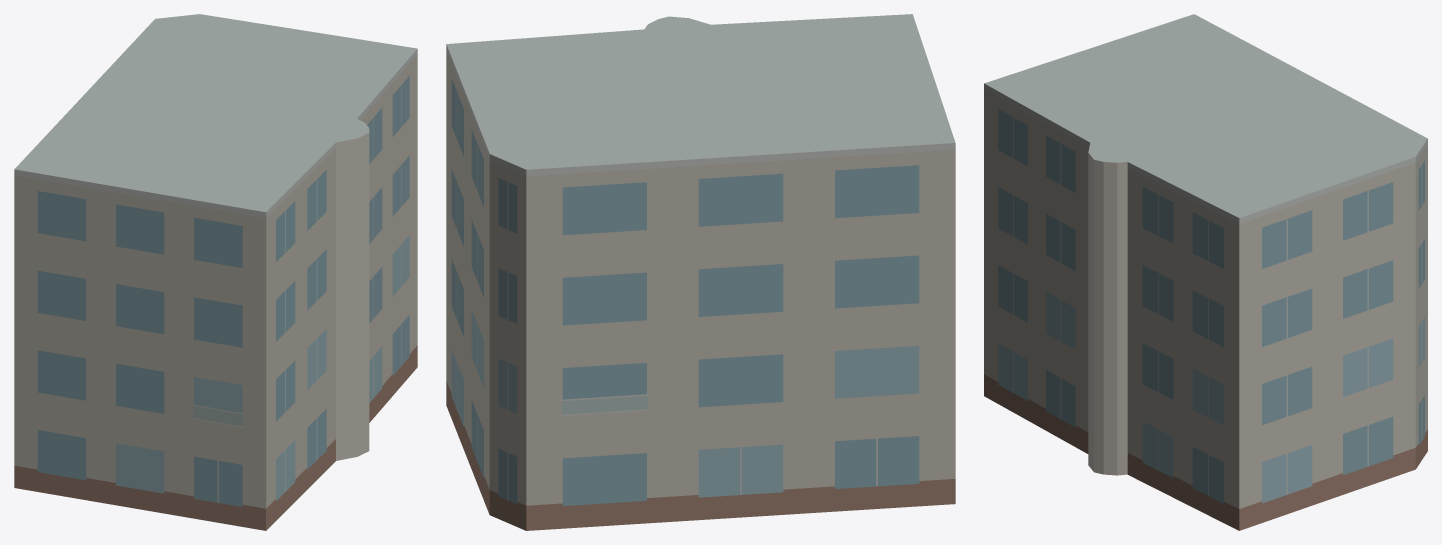
File: survey-upis-32816435.glb
3 views of the same model, side by side, from view 1: azimuth 30°, elevation 25°; view 2: azimuth 150°, elevation 25°; view 3: azimuth 270°, elevation 25° (orthographic). The views are drawn at different scales.
Visible parts, largest first — view 1: survey-upis-32816435.tmp; view 2: survey-upis-32816435.tmp; view 3: survey-upis-32816435.tmp.
Boxes of the visible parts, box(x1,y1,x2,y2) form: survey-upis-32816435.tmp: box(14, 14, 417, 530); survey-upis-32816435.tmp: box(446, 14, 955, 530); survey-upis-32816435.tmp: box(984, 14, 1427, 530).
Bounding box in the file's own units: 18.63 × 13.3 × 17.12.
